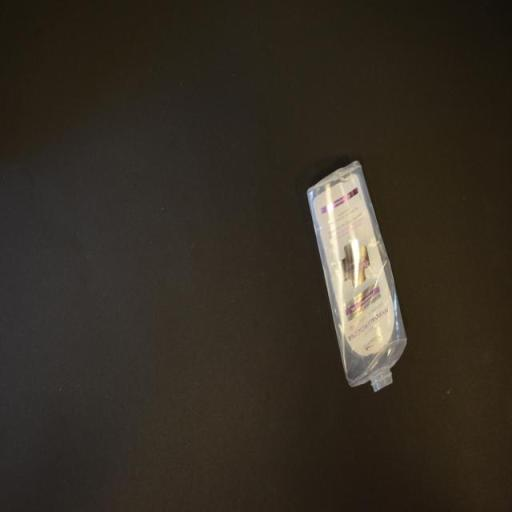plastic: (308, 160, 408, 394)
